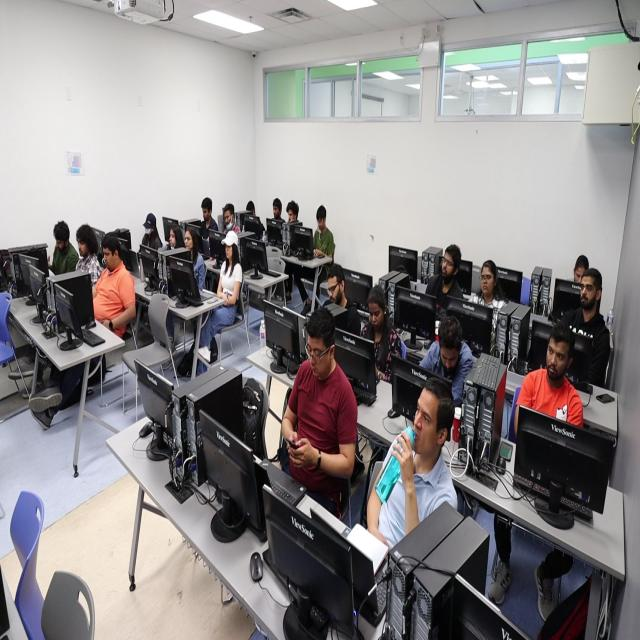Attentive: (412, 381, 442, 457), (547, 333, 572, 382), (580, 271, 602, 313), (480, 261, 498, 296), (441, 247, 456, 284), (184, 228, 194, 250), (225, 240, 234, 260)
Distracted: (306, 326, 335, 378), (440, 330, 462, 378), (327, 267, 344, 302), (369, 293, 385, 328), (102, 242, 118, 273), (77, 232, 89, 258), (54, 233, 68, 253), (168, 225, 178, 248)
